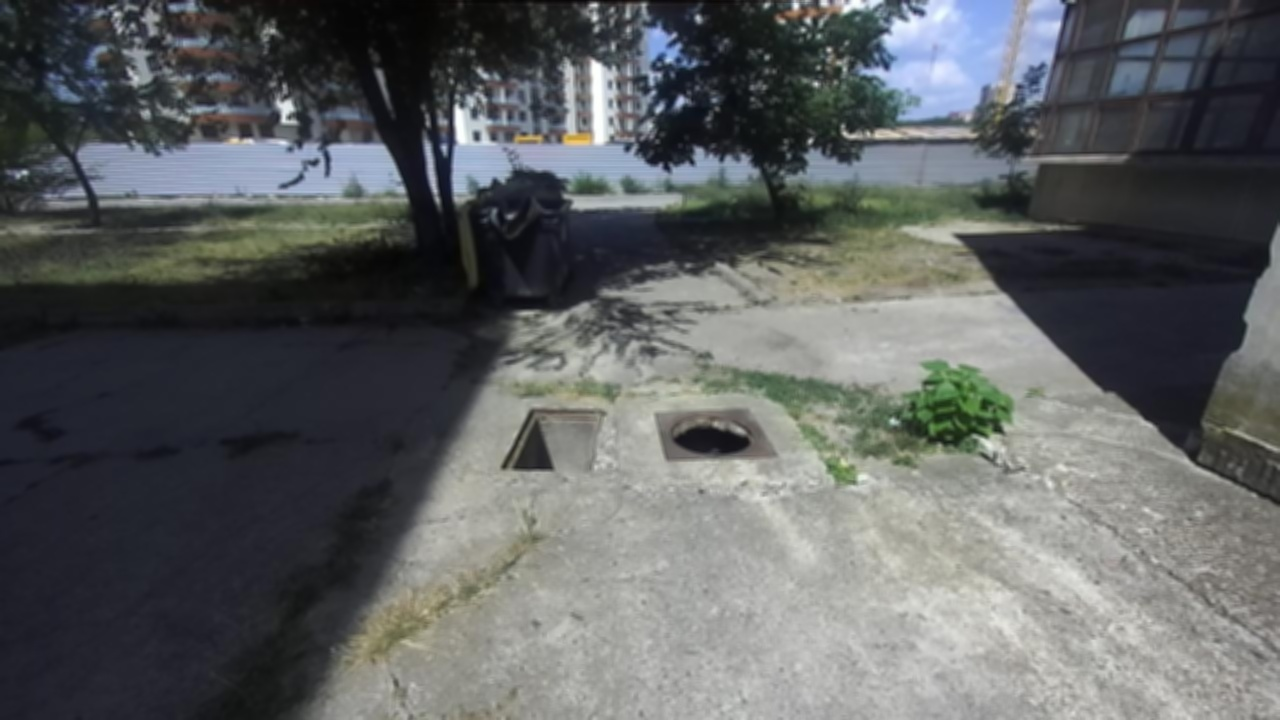drain: (494, 404, 606, 473), (664, 408, 758, 453)
